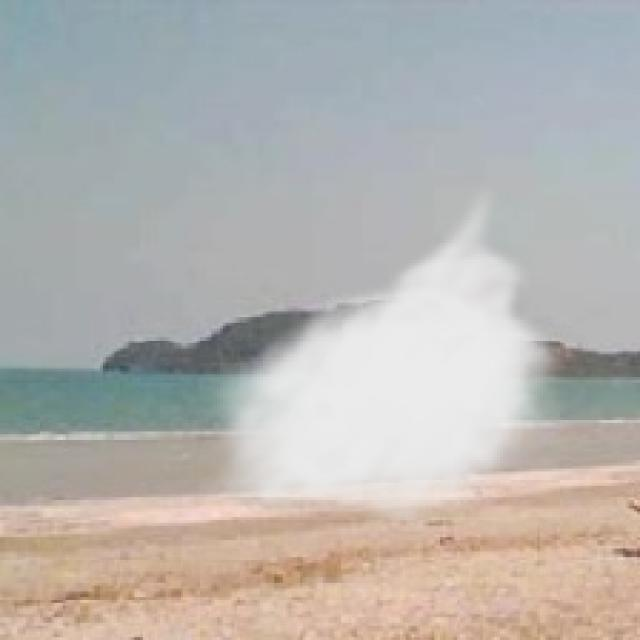smoke: (194, 180, 572, 534)
